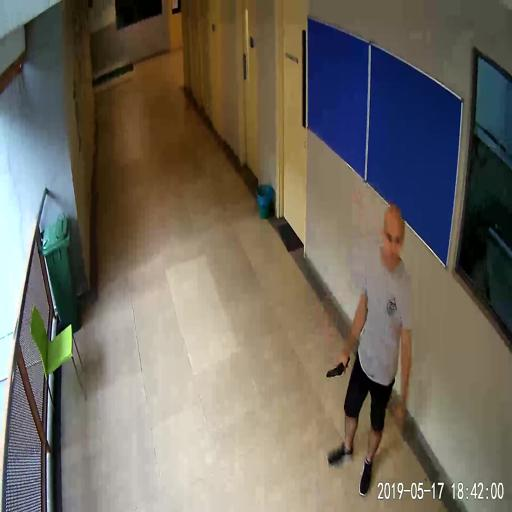pistol: (326, 355, 350, 377)
